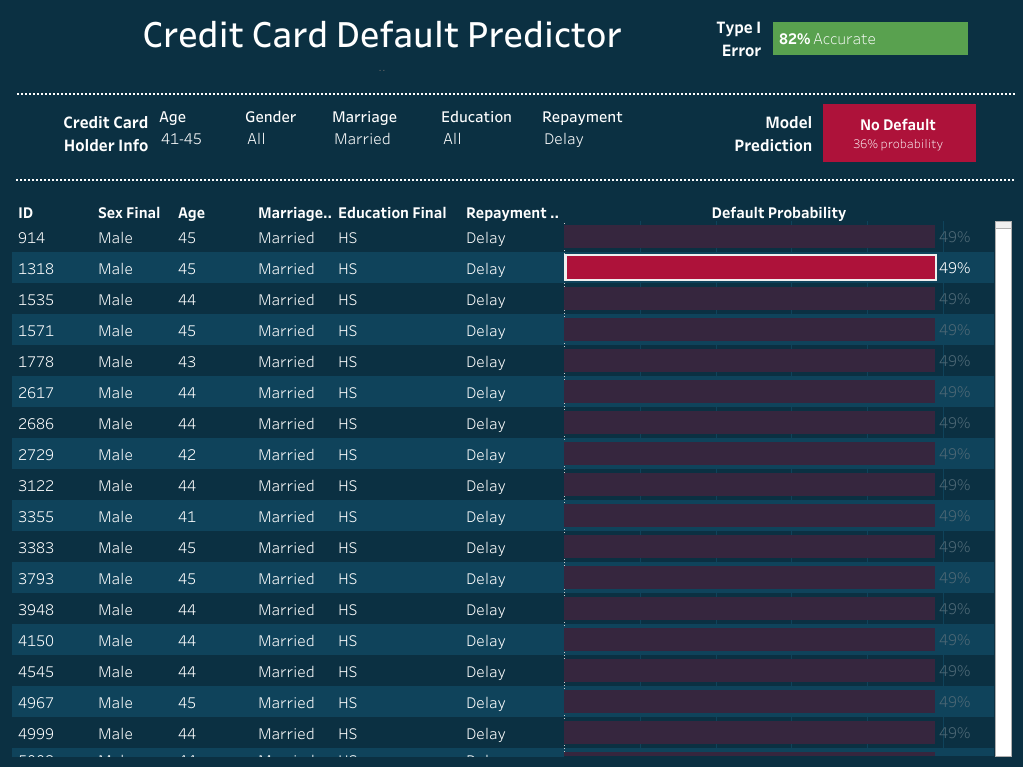

What the dashboard file says about the page in this screenshot:
{"tool":"tableau","page":{"name":"Dashboard 1","canvas":[1024,768],"ordinal":0},"visuals":[{"type":"text","box":[92,4,580,74]},{"type":"text","box":[8,8,760.4,60]},{"type":"worksheet","title":"Accuracy","mark":"Bar","box":[768.4,8,247.6,60]},{"type":"blank","box":[8,68,1008,32]},{"type":"image","param":"Image/Dotted_Line4.png","box":[15,90,1002,9]},{"type":"text","box":[8,100,147.2,66.5]},{"type":"filter","title":"Details","param":"[federated.1n573w60y0954a1f8d80a04t0pcn].[Age Final2]","box":[155.2,100,85.9,66.5]},{"type":"filter","title":"Details","param":"[federated.1n573w60y0954a1f8d80a04t0pcn].[none:SEX:ok]","box":[241,100,87,66.5]},{"type":"filter","title":"Details","param":"[federated.1n573w60y0954a1f8d80a04t0pcn].[Marriage Final2]","box":[328,100,109,66.5]},{"type":"filter","title":"Details","param":"[federated.1n573w60y0954a1f8d80a04t0pcn].[Education Final]","box":[437,100,101,66.5]},{"type":"filter","title":"Details","param":"[federated.1n573w60y0954a1f8d80a04t0pcn].[Repayment Status]","box":[538,100,160.2,66.5]},{"type":"text","box":[698.2,100,120.4,66.5]},{"type":"worksheet","title":"Prediction","mark":"Automatic","cols":["Calculation_1129559113989222413"],"box":[818.6,100,161.7,66.5]},{"type":"blank","box":[980.3,100,35.7,66.5]},{"type":"blank","box":[8,166.4,1008,30.8]},{"type":"image","param":"Image/Dotted_Line4.png","box":[14.5,174.8,1001.7,10.1]},{"type":"worksheet","title":"Details","mark":"Automatic","rows":["ID","SEX","AGE"],"cols":["Calculation_1129559113774743560"],"box":[8,197.3,1008,562.7]}]}

Visuals, with their boxes in screenshot pixels (x1, y1, x2, y2), scaled from the page's 1024x768 canvas onto the 1023x767 screenshot:
text: [left=92, top=4, right=671, bottom=78]
text: [left=8, top=8, right=768, bottom=68]
"Accuracy" worksheet (Bar marks): [left=768, top=8, right=1015, bottom=68]
blank: [left=8, top=68, right=1015, bottom=100]
image: [left=15, top=90, right=1016, bottom=99]
text: [left=8, top=100, right=155, bottom=166]
"Details" filter: [left=155, top=100, right=241, bottom=166]
"Details" filter: [left=241, top=100, right=328, bottom=166]
"Details" filter: [left=328, top=100, right=437, bottom=166]
"Details" filter: [left=437, top=100, right=537, bottom=166]
"Details" filter: [left=537, top=100, right=698, bottom=166]
text: [left=698, top=100, right=818, bottom=166]
"Prediction" worksheet: [left=818, top=100, right=979, bottom=166]
blank: [left=979, top=100, right=1015, bottom=166]
blank: [left=8, top=166, right=1015, bottom=197]
image: [left=14, top=175, right=1015, bottom=185]
"Details" worksheet: [left=8, top=197, right=1015, bottom=759]
